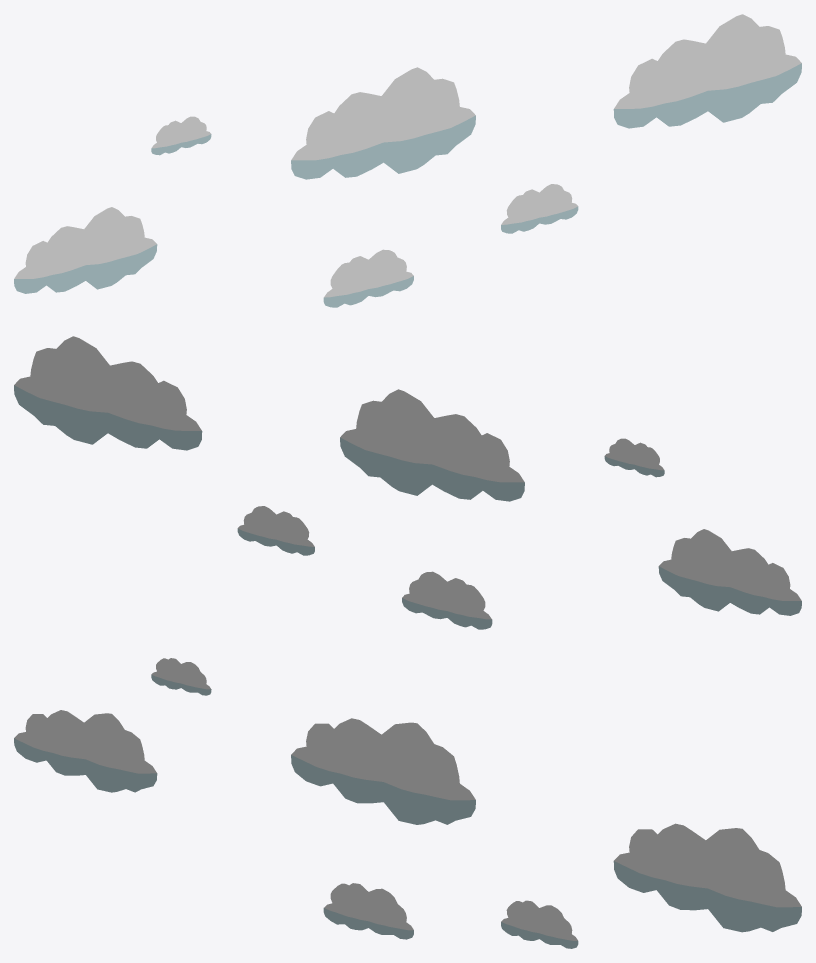
Rendered from Shoot That Bird! Clouds.fbx.
The picture shows the model from 3 angles, top to bottom: view 1: azimuth 30°, elevation 25°; view 2: azimuth 150°, elevation 25°; view 3: azimuth 330°, elevation 25°; orthographic projection.
Parts seen in each view (by area): view 1: Cloud Big Plane 2, Cloud Big Plane 1, Cloud Big Plane 3, Cloud Small Plane 2, Cloud Small Plane 1, Cloud Small Plane 3; view 2: Cloud Big Plane 2, Cloud Big Plane 1, Cloud Big Plane 3, Cloud Small Plane 2, Cloud Small Plane 1, Cloud Small Plane 3; view 3: Cloud Big Plane 2, Cloud Big Plane 1, Cloud Big Plane 3, Cloud Small Plane 2, Cloud Small Plane 1, Cloud Small Plane 3.
Boxes of the visible parts, left/top/right/bottom form: Cloud Big Plane 2: left=613, top=14, right=801, bottom=128; Cloud Big Plane 1: left=291, top=67, right=475, bottom=179; Cloud Big Plane 3: left=14, top=207, right=157, bottom=293; Cloud Small Plane 2: left=323, top=249, right=413, bottom=307; Cloud Small Plane 1: left=501, top=184, right=578, bottom=233; Cloud Small Plane 3: left=151, top=116, right=211, bottom=155; Cloud Big Plane 2: left=14, top=336, right=202, bottom=450; Cloud Big Plane 1: left=340, top=389, right=524, bottom=501; Cloud Big Plane 3: left=658, top=529, right=801, bottom=615; Cloud Small Plane 2: left=402, top=571, right=492, bottom=629; Cloud Small Plane 1: left=237, top=506, right=314, bottom=555; Cloud Small Plane 3: left=604, top=438, right=664, bottom=477; Cloud Big Plane 2: left=613, top=823, right=801, bottom=932; Cloud Big Plane 1: left=291, top=718, right=475, bottom=824; Cloud Big Plane 3: left=14, top=710, right=157, bottom=792; Cloud Small Plane 2: left=323, top=883, right=413, bottom=939; Cloud Small Plane 1: left=501, top=900, right=578, bottom=948; Cloud Small Plane 3: left=151, top=658, right=211, bottom=695.
Bounding box in the file's own units: 8600 × 2377 × 0.00913.
